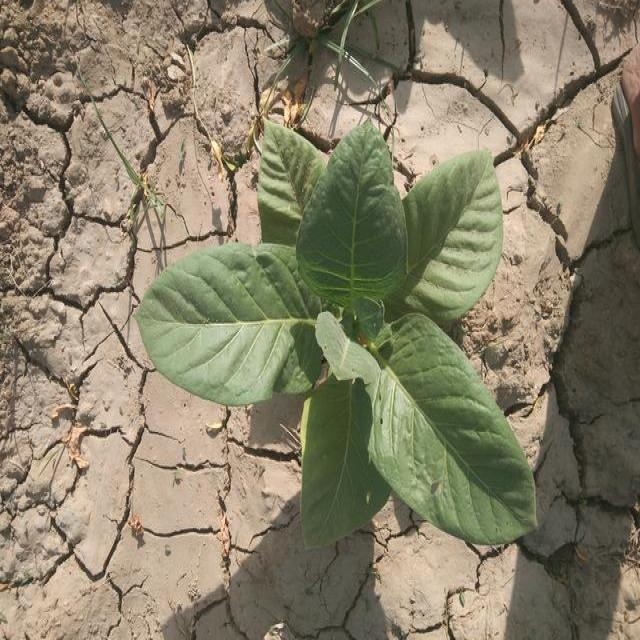crop: (152, 122, 547, 555)
